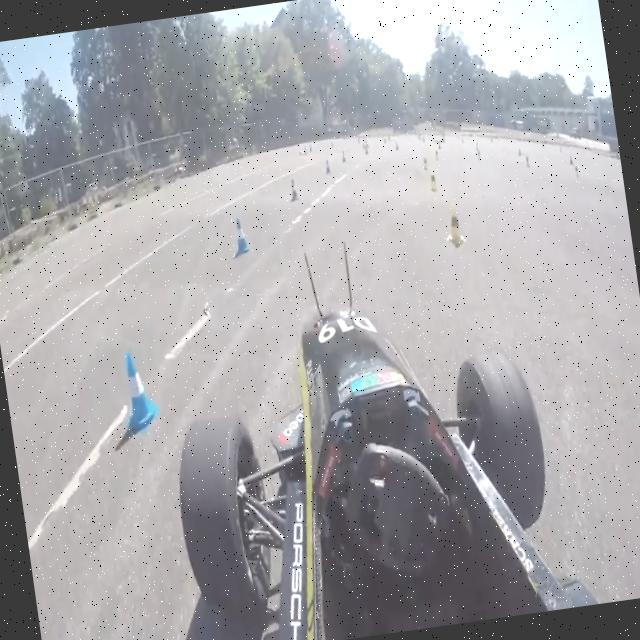blue_cone: (110, 348, 160, 441), (228, 213, 251, 260), (286, 176, 300, 203), (324, 160, 331, 176), (341, 150, 347, 166)
yellow_cone: (440, 200, 466, 247), (427, 170, 438, 193), (421, 156, 428, 172)
